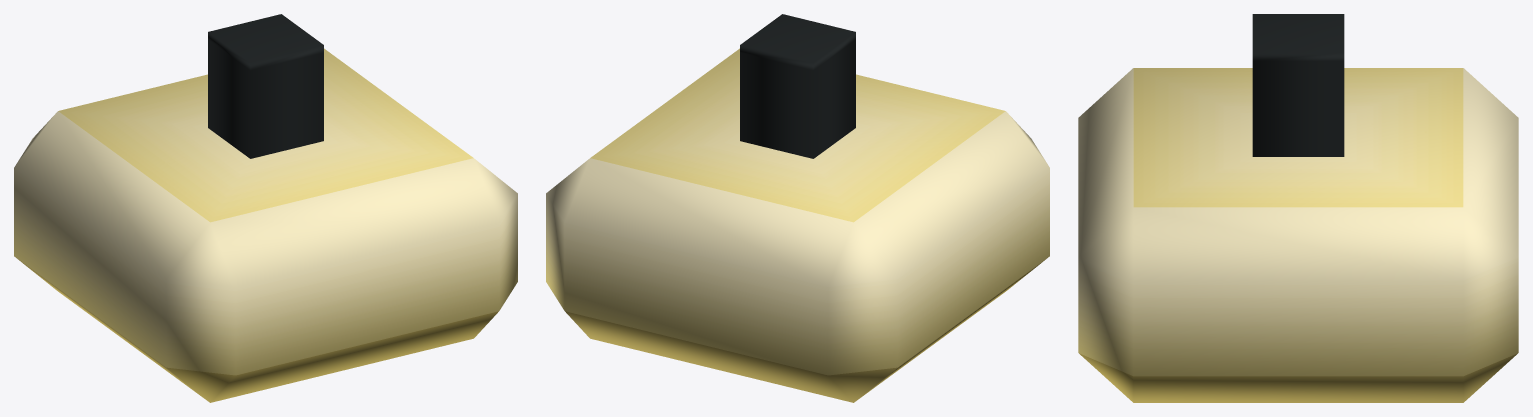
Rendered from candle_big_3.fbx.
The picture shows the model from 3 angles, left to right: view 1: azimuth 30°, elevation 25°; view 2: azimuth 150°, elevation 25°; view 3: azimuth 270°, elevation 25°; orthographic projection. The views are drawn at different scales.
Parts seen in each view (by area): view 1: candle_big_3; view 2: candle_big_3; view 3: candle_big_3.
Boxes of the visible parts, bbox=[...] form: candle_big_3: bbox=[14, 14, 517, 402]; candle_big_3: bbox=[546, 14, 1049, 402]; candle_big_3: bbox=[1078, 14, 1518, 402].
Bounding box in the file's own units: 39.91 × 30 × 39.91.
